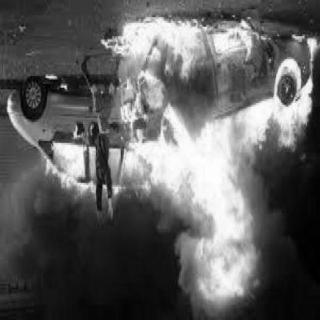Fire: (39, 14, 318, 318)
